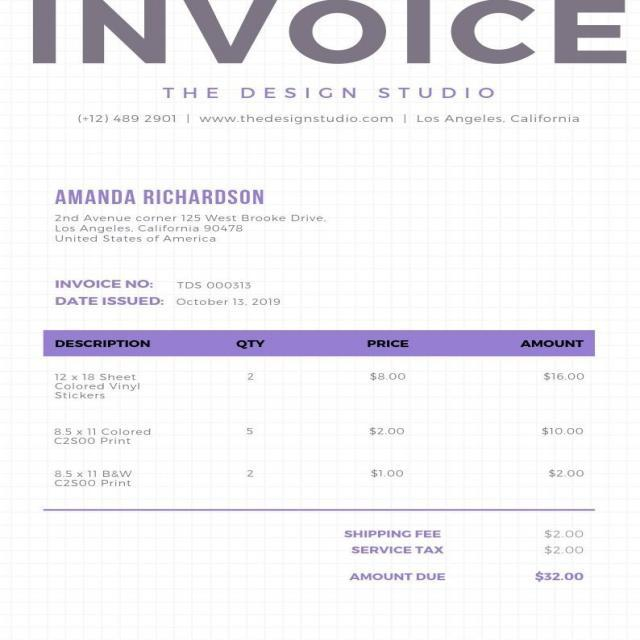customer_address: (50, 212, 335, 251)
customer_name: (52, 184, 273, 209)
invoice_date: (173, 295, 286, 308)
invoice_number: (176, 277, 256, 290)
invoice_subtotal: (539, 525, 587, 538)
invoice_total: (529, 566, 588, 585)
item_description: (48, 367, 153, 494)
item_quantity: (234, 364, 262, 492)
item_total_price: (535, 365, 589, 490)
item_unit_price: (358, 364, 411, 492)
supplier_address: (411, 109, 587, 129)
supplier_name: (157, 70, 504, 104)
tax_rate: (540, 543, 587, 559)
